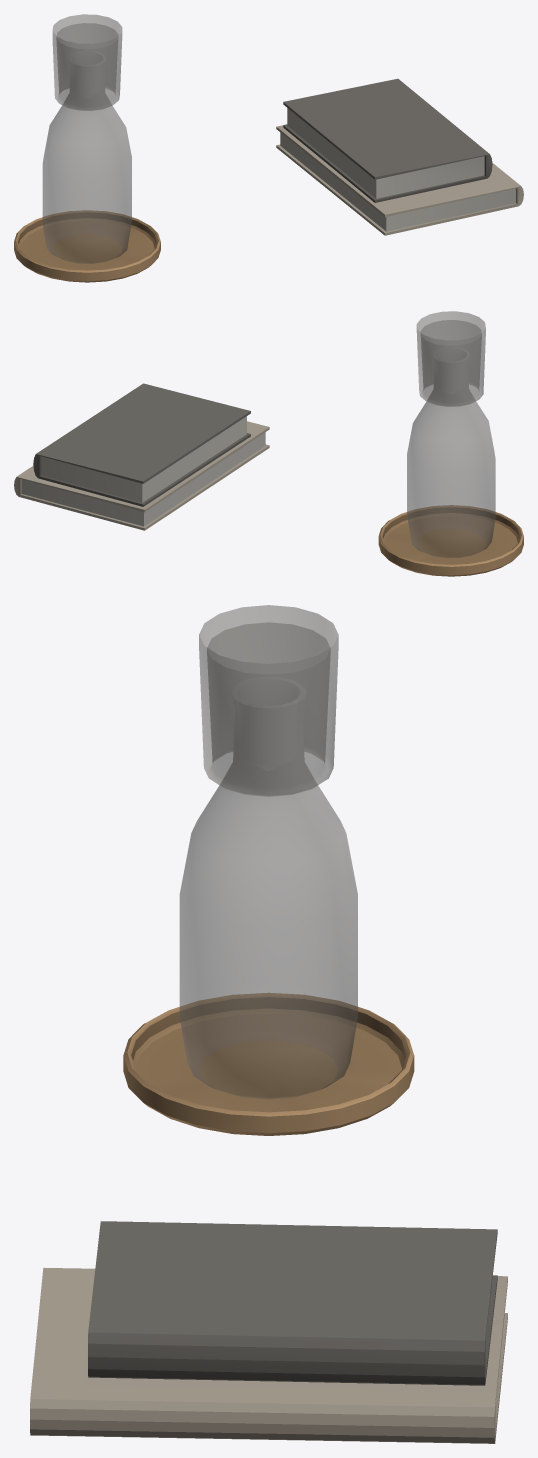
The model's file is decor_d_nightstand_b.gltf.
3 views of the same model, one above another, from view 1: azimuth 30°, elevation 25°; view 2: azimuth 150°, elevation 25°; view 3: azimuth 270°, elevation 25° (orthographic). The views are drawn at different scales.
Visible parts, largest first — view 1: DecorD_Nightstand_B_Carafe01_Glass_NoCollide, DecorD_Nightstand_B_Book02_StoneFabric_NoCollide, DecorD_Nightstand_B_Bronze_NoCollide, DecorD_Nightstand_B_Book01_Oat_NoCollide, DecorD_Nightstand_B_Book02_Paper_NoCollide, DecorD_Nightstand_B_Book01_Paper_NoCollide; view 2: DecorD_Nightstand_B_Carafe01_Glass_NoCollide, DecorD_Nightstand_B_Book02_StoneFabric_NoCollide, DecorD_Nightstand_B_Bronze_NoCollide, DecorD_Nightstand_B_Book02_Paper_NoCollide, DecorD_Nightstand_B_Book01_Paper_NoCollide, DecorD_Nightstand_B_Book01_Oat_NoCollide; view 3: DecorD_Nightstand_B_Carafe01_Glass_NoCollide, DecorD_Nightstand_B_Book02_StoneFabric_NoCollide, DecorD_Nightstand_B_Book01_Oat_NoCollide, DecorD_Nightstand_B_Bronze_NoCollide.
Boxes of the visible parts, box(x1,y1,x2,y2) form: DecorD_Nightstand_B_Carafe01_Glass_NoCollide: box(42, 14, 131, 263); DecorD_Nightstand_B_Book02_StoneFabric_NoCollide: box(283, 78, 492, 202); DecorD_Nightstand_B_Bronze_NoCollide: box(14, 210, 160, 282); DecorD_Nightstand_B_Book01_Oat_NoCollide: box(276, 125, 523, 235); DecorD_Nightstand_B_Book02_Paper_NoCollide: box(287, 108, 484, 198); DecorD_Nightstand_B_Book01_Paper_NoCollide: box(280, 132, 515, 231); DecorD_Nightstand_B_Carafe01_Glass_NoCollide: box(407, 311, 495, 557); DecorD_Nightstand_B_Book02_StoneFabric_NoCollide: box(33, 383, 250, 506); DecorD_Nightstand_B_Bronze_NoCollide: box(378, 505, 523, 576); DecorD_Nightstand_B_Book02_Paper_NoCollide: box(41, 416, 246, 502); DecorD_Nightstand_B_Book01_Paper_NoCollide: box(22, 432, 265, 526); DecorD_Nightstand_B_Book01_Oat_NoCollide: box(14, 421, 269, 530); DecorD_Nightstand_B_Carafe01_Glass_NoCollide: box(179, 605, 357, 1099); DecorD_Nightstand_B_Book02_StoneFabric_NoCollide: box(88, 1221, 497, 1385); DecorD_Nightstand_B_Book01_Oat_NoCollide: box(30, 1267, 507, 1443); DecorD_Nightstand_B_Bronze_NoCollide: box(123, 993, 414, 1135).
Size of the model in its own units: 0.5288 by 0.252 by 0.2467.
